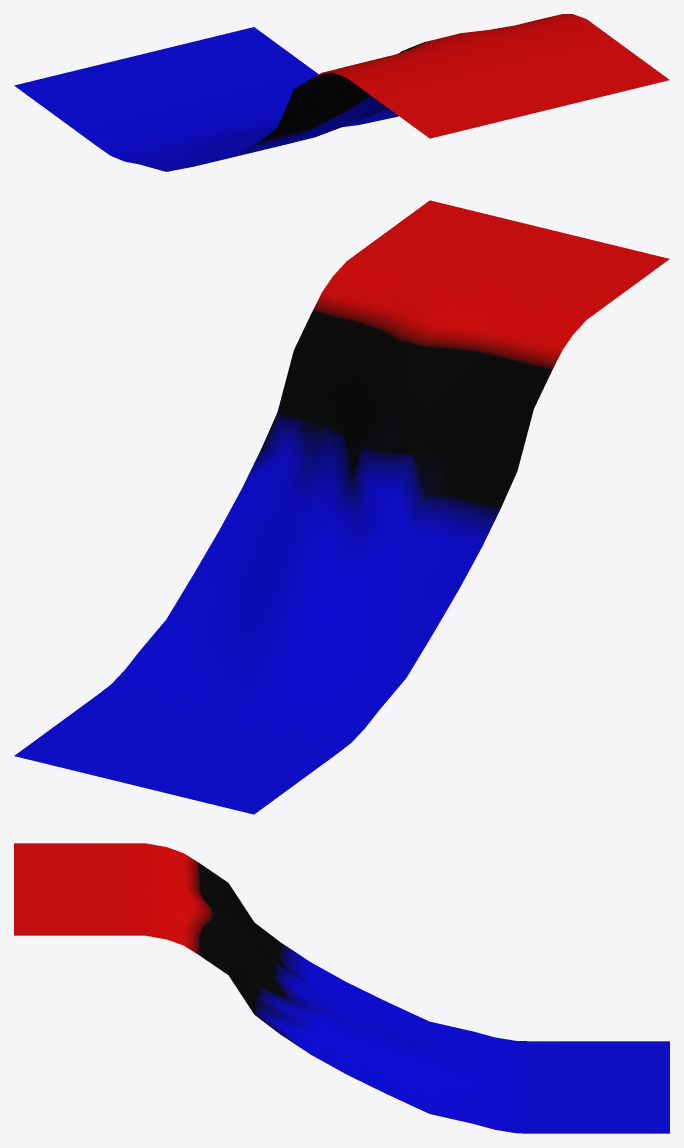
The model's file is RiverBank00B Foreground.fbx.
3 renders of one model, top to bottom at view 1: azimuth 30°, elevation 25°; view 2: azimuth 150°, elevation 25°; view 3: azimuth 270°, elevation 25°, orthographic. The views are drawn at different scales.
Visible parts, largest first — view 1: RiverBank00B Foreground; view 2: RiverBank00B Foreground; view 3: RiverBank00B Foreground.
Part boxes in pixels (box(x1,y1,x2,y2)): RiverBank00B Foreground: box(14, 14, 669, 171); RiverBank00B Foreground: box(14, 200, 669, 814); RiverBank00B Foreground: box(14, 843, 669, 1133).
Bounding box in the file's own units: 1 × 1 × 3.
